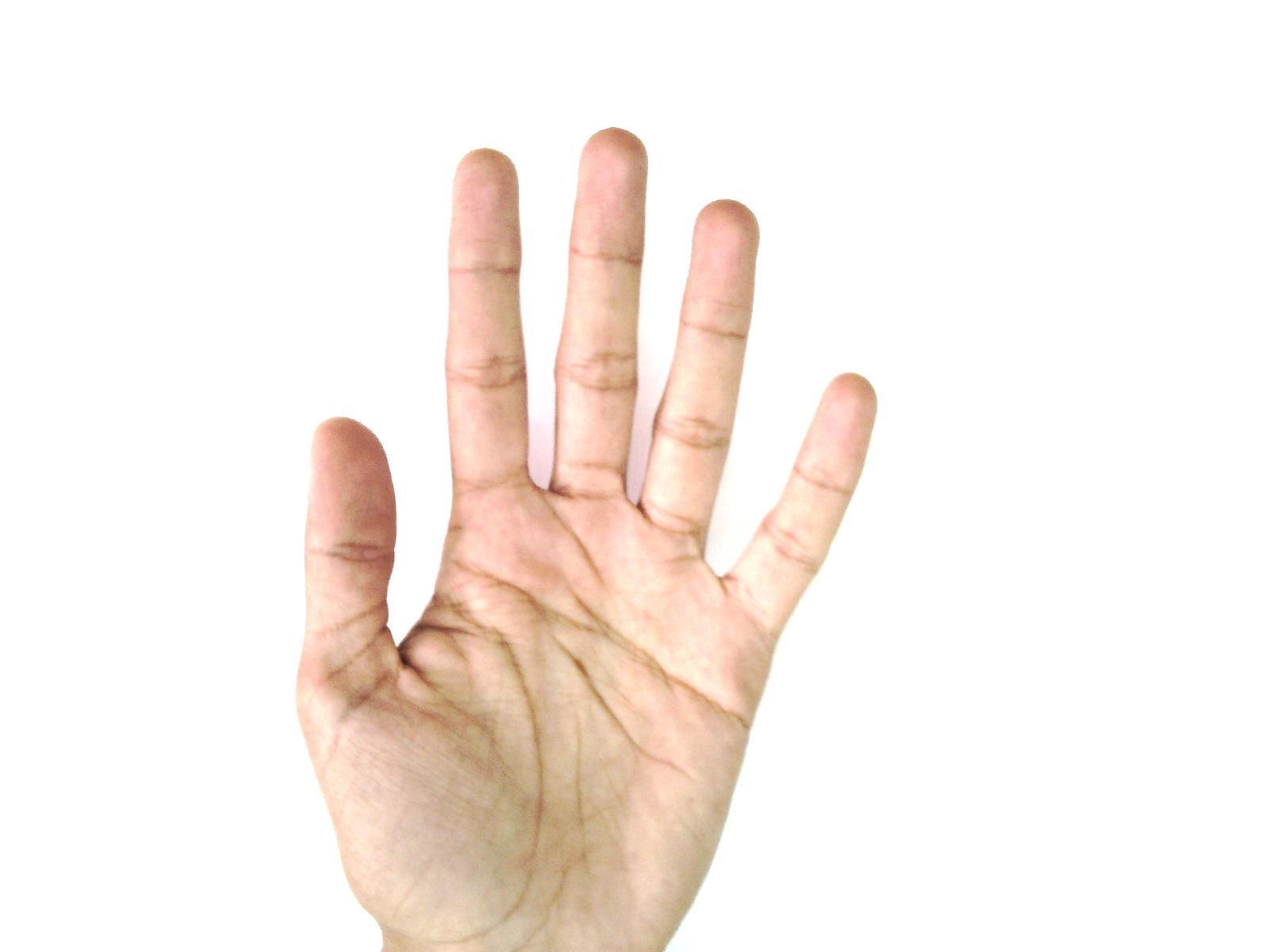open_palm: (293, 126, 880, 951)
